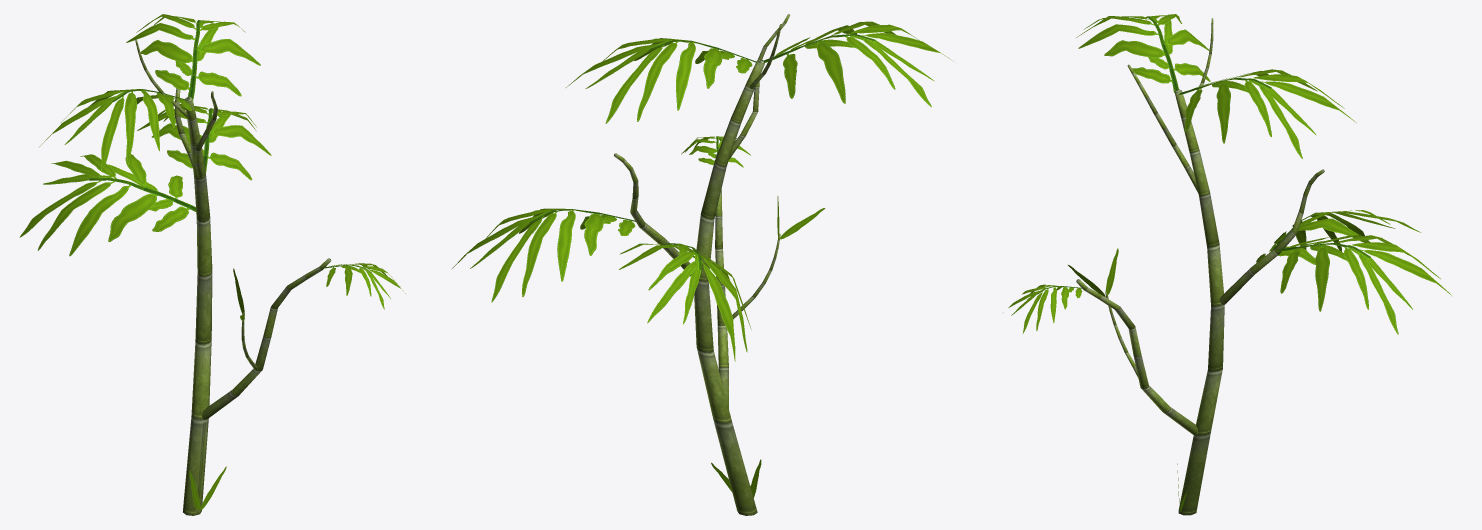
Rendered from bamboo.glb.
3 views of the same model, side by side, from view 1: azimuth 30°, elevation 25°; view 2: azimuth 150°, elevation 25°; view 3: azimuth 270°, elevation 25° (orthographic). The views are drawn at different scales.
Visible parts, largest first — view 1: Object_16, Object_15; view 2: Object_16, Object_15; view 3: Object_16, Object_15.
Part boxes in pixels (box(x1,y1,x2,y2)): Object_16: box(19, 14, 405, 510); Object_15: box(135, 39, 331, 515); Object_16: box(452, 21, 952, 497); Object_15: box(614, 14, 790, 515); Object_16: box(1003, 14, 1452, 511); Object_15: box(1076, 18, 1324, 515).
Size of the model in its own units: 8.03 by 10.24 by 9.23.
2 materials, 2 textured.
